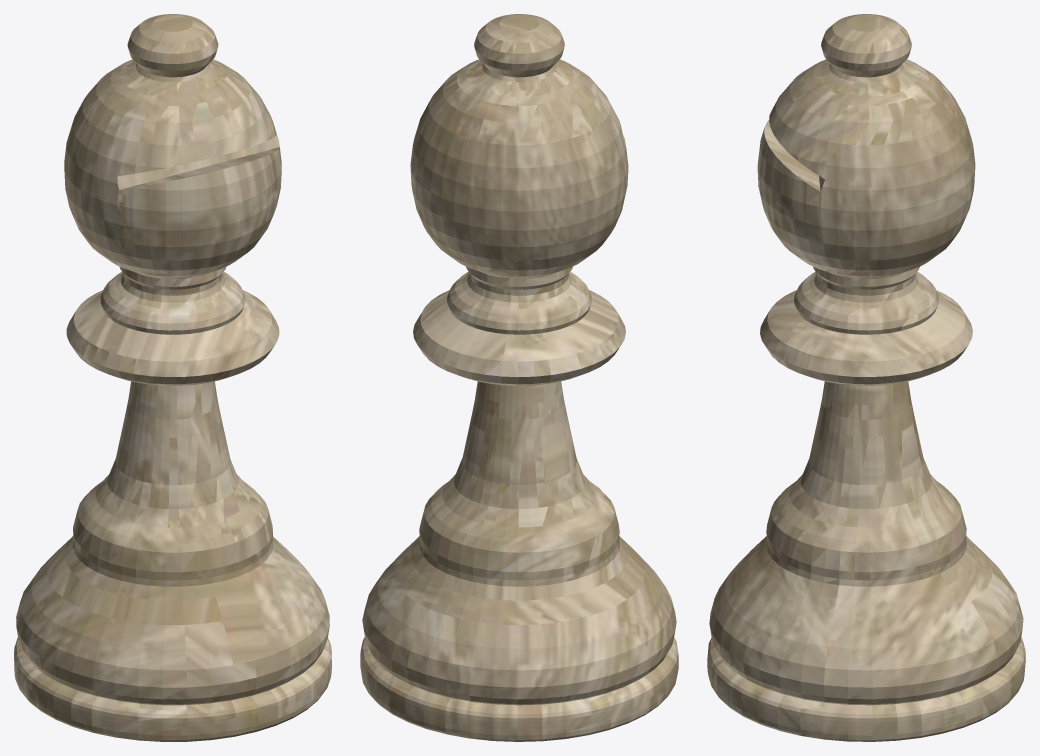
Rendered from bishop_1.obj.
3 renders of one model, left to right at view 1: azimuth 30°, elevation 25°; view 2: azimuth 150°, elevation 25°; view 3: azimuth 270°, elevation 25°, orthographic.
Parts seen in each view (by area): view 1: ALFIERE3; view 2: ALFIERE3; view 3: ALFIERE3.
Part boxes in pixels (box(x1,y1,x2,y2)): ALFIERE3: box(14, 14, 331, 741); ALFIERE3: box(360, 14, 678, 741); ALFIERE3: box(707, 14, 1025, 741).
Bounding box in the file's own units: 78.55 × 179 × 78.54.
Materials: 1 (1 with a texture image).
